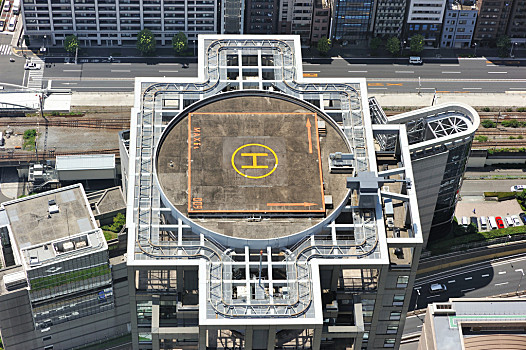Apron: (231, 144, 278, 179)
